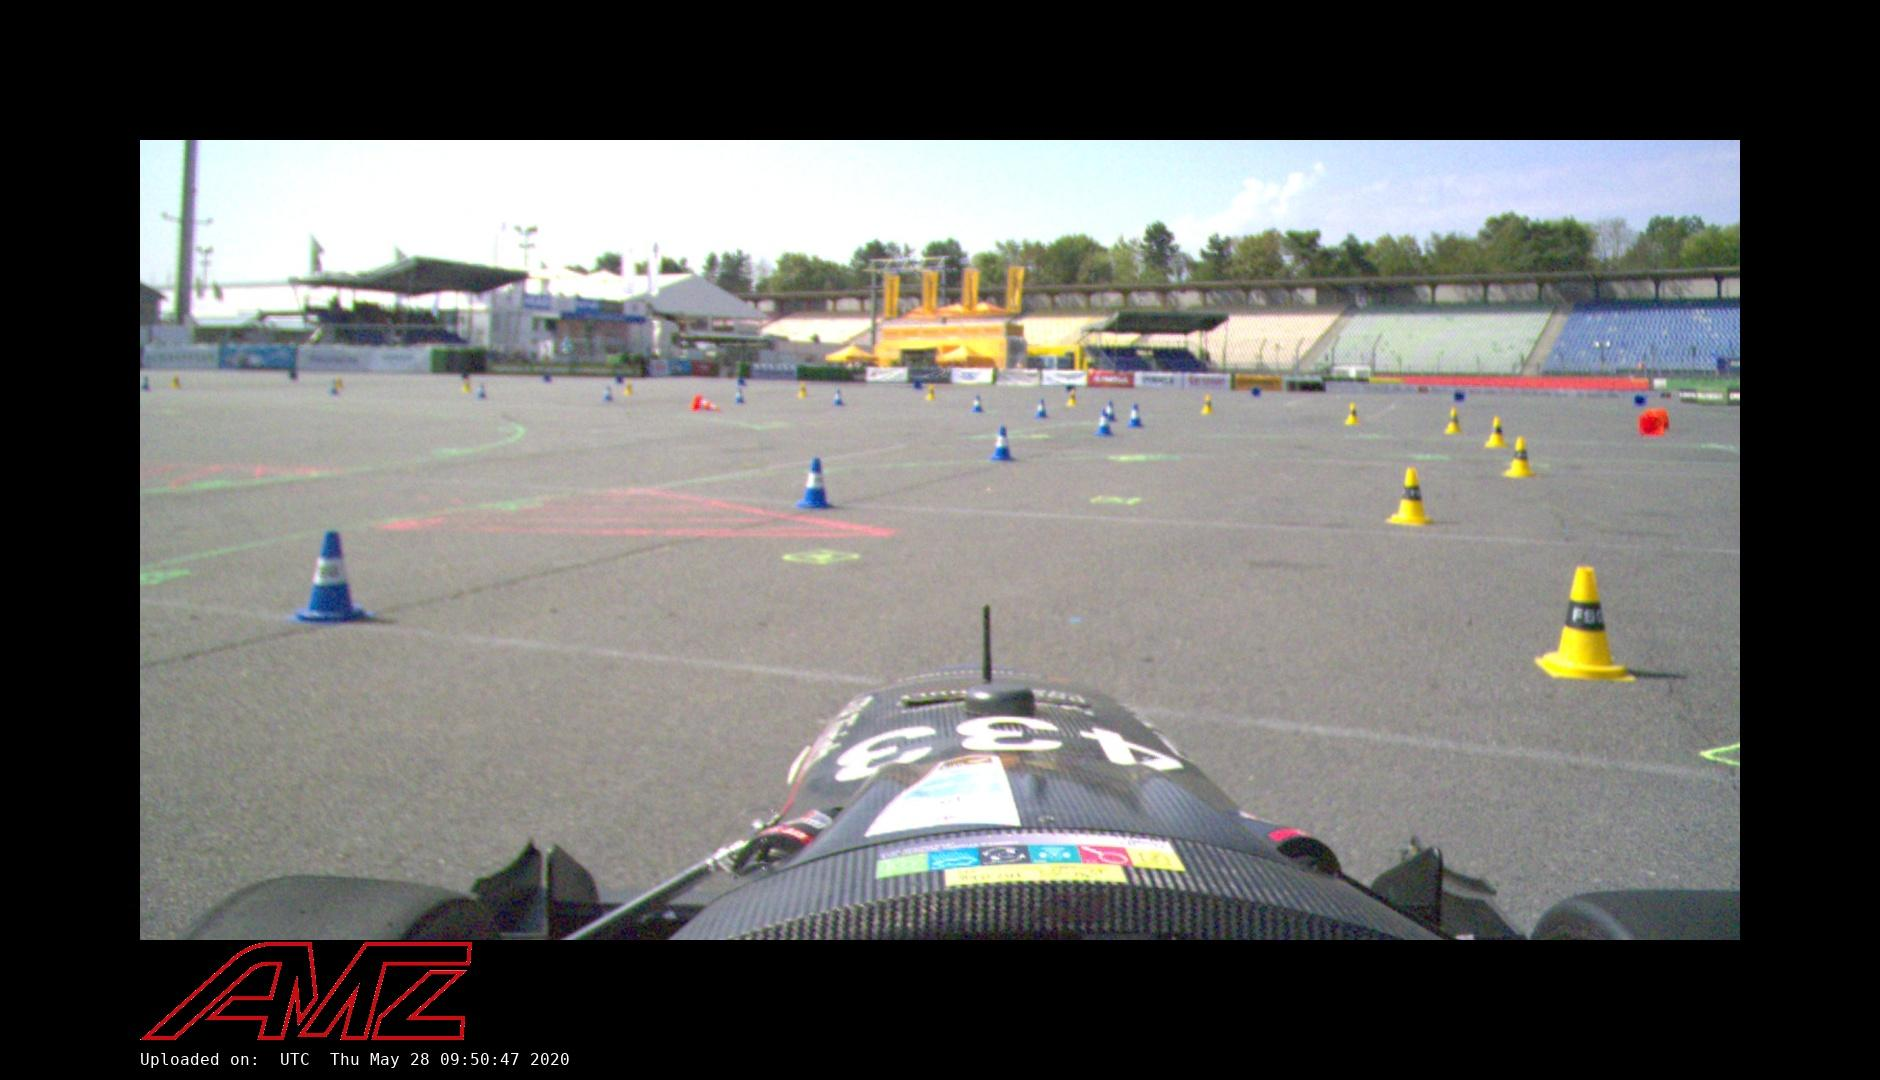blue_cone: (288, 530, 374, 624), (793, 459, 834, 509), (990, 428, 1016, 461), (1094, 410, 1114, 435), (1126, 403, 1147, 428), (1033, 397, 1048, 419), (1103, 400, 1117, 421), (733, 388, 748, 404), (600, 385, 615, 402), (832, 389, 844, 406), (474, 384, 487, 399), (1633, 394, 1648, 407), (1454, 391, 1466, 402), (1251, 388, 1262, 397)
orange_cone: (1639, 413, 1666, 435), (691, 394, 720, 413), (1645, 408, 1671, 429)
yellow_cone: (1534, 566, 1636, 681), (1387, 468, 1435, 527), (1500, 437, 1538, 477), (1485, 416, 1508, 447), (1442, 406, 1464, 434), (1343, 402, 1364, 422), (1200, 395, 1215, 413), (970, 394, 984, 413), (1065, 388, 1079, 406), (925, 385, 937, 400), (458, 379, 471, 393), (797, 382, 808, 398), (622, 380, 633, 397)
